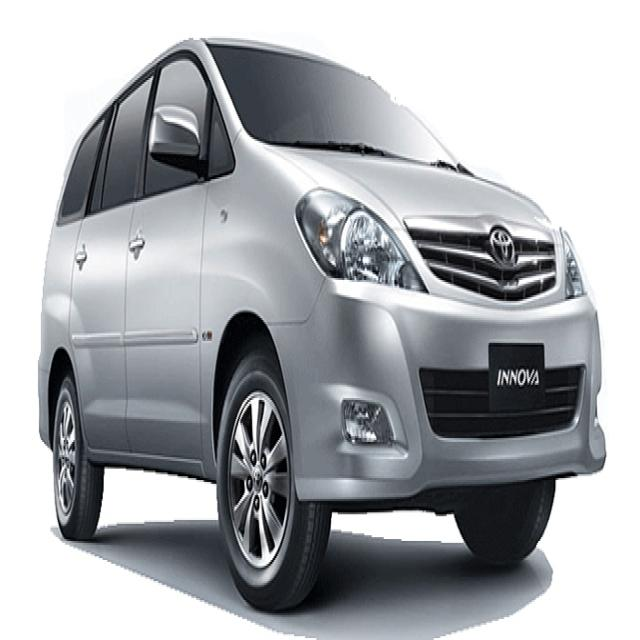light_vehicle: (37, 36, 606, 612)
